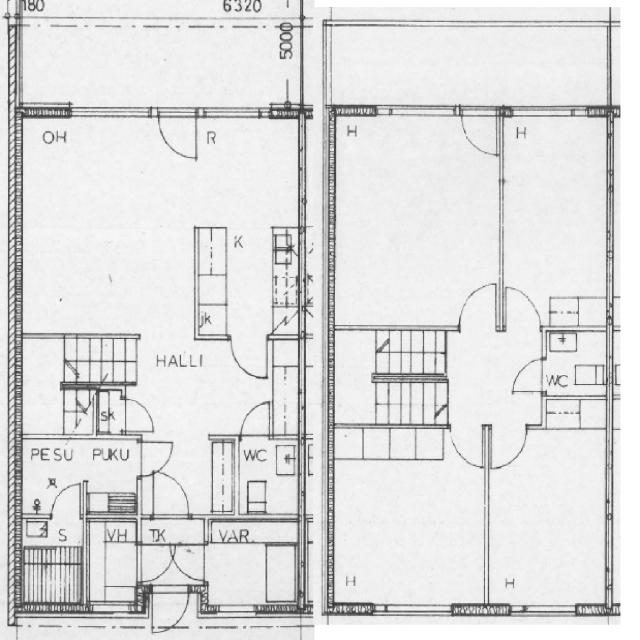door: (454, 278, 501, 336), (498, 280, 543, 336), (157, 106, 199, 164), (459, 107, 502, 158), (151, 469, 192, 520), (229, 334, 271, 382), (150, 587, 192, 634), (488, 424, 528, 472), (448, 423, 487, 470), (135, 438, 177, 479), (46, 479, 87, 520), (508, 355, 548, 397), (170, 542, 208, 582), (120, 396, 158, 435), (238, 399, 273, 440), (138, 544, 173, 581)
window: (371, 598, 456, 626), (66, 102, 153, 125), (376, 102, 458, 122), (512, 599, 580, 623), (511, 102, 589, 121), (202, 104, 270, 124), (215, 602, 258, 620), (91, 603, 132, 619)
zone: (15, 119, 198, 356), (327, 112, 503, 336), (324, 426, 489, 618), (500, 108, 613, 332), (15, 438, 144, 516), (204, 520, 301, 615), (235, 436, 300, 520), (86, 517, 141, 614), (542, 329, 610, 399), (16, 515, 86, 575), (57, 336, 136, 387), (540, 396, 607, 430), (96, 386, 128, 438)
